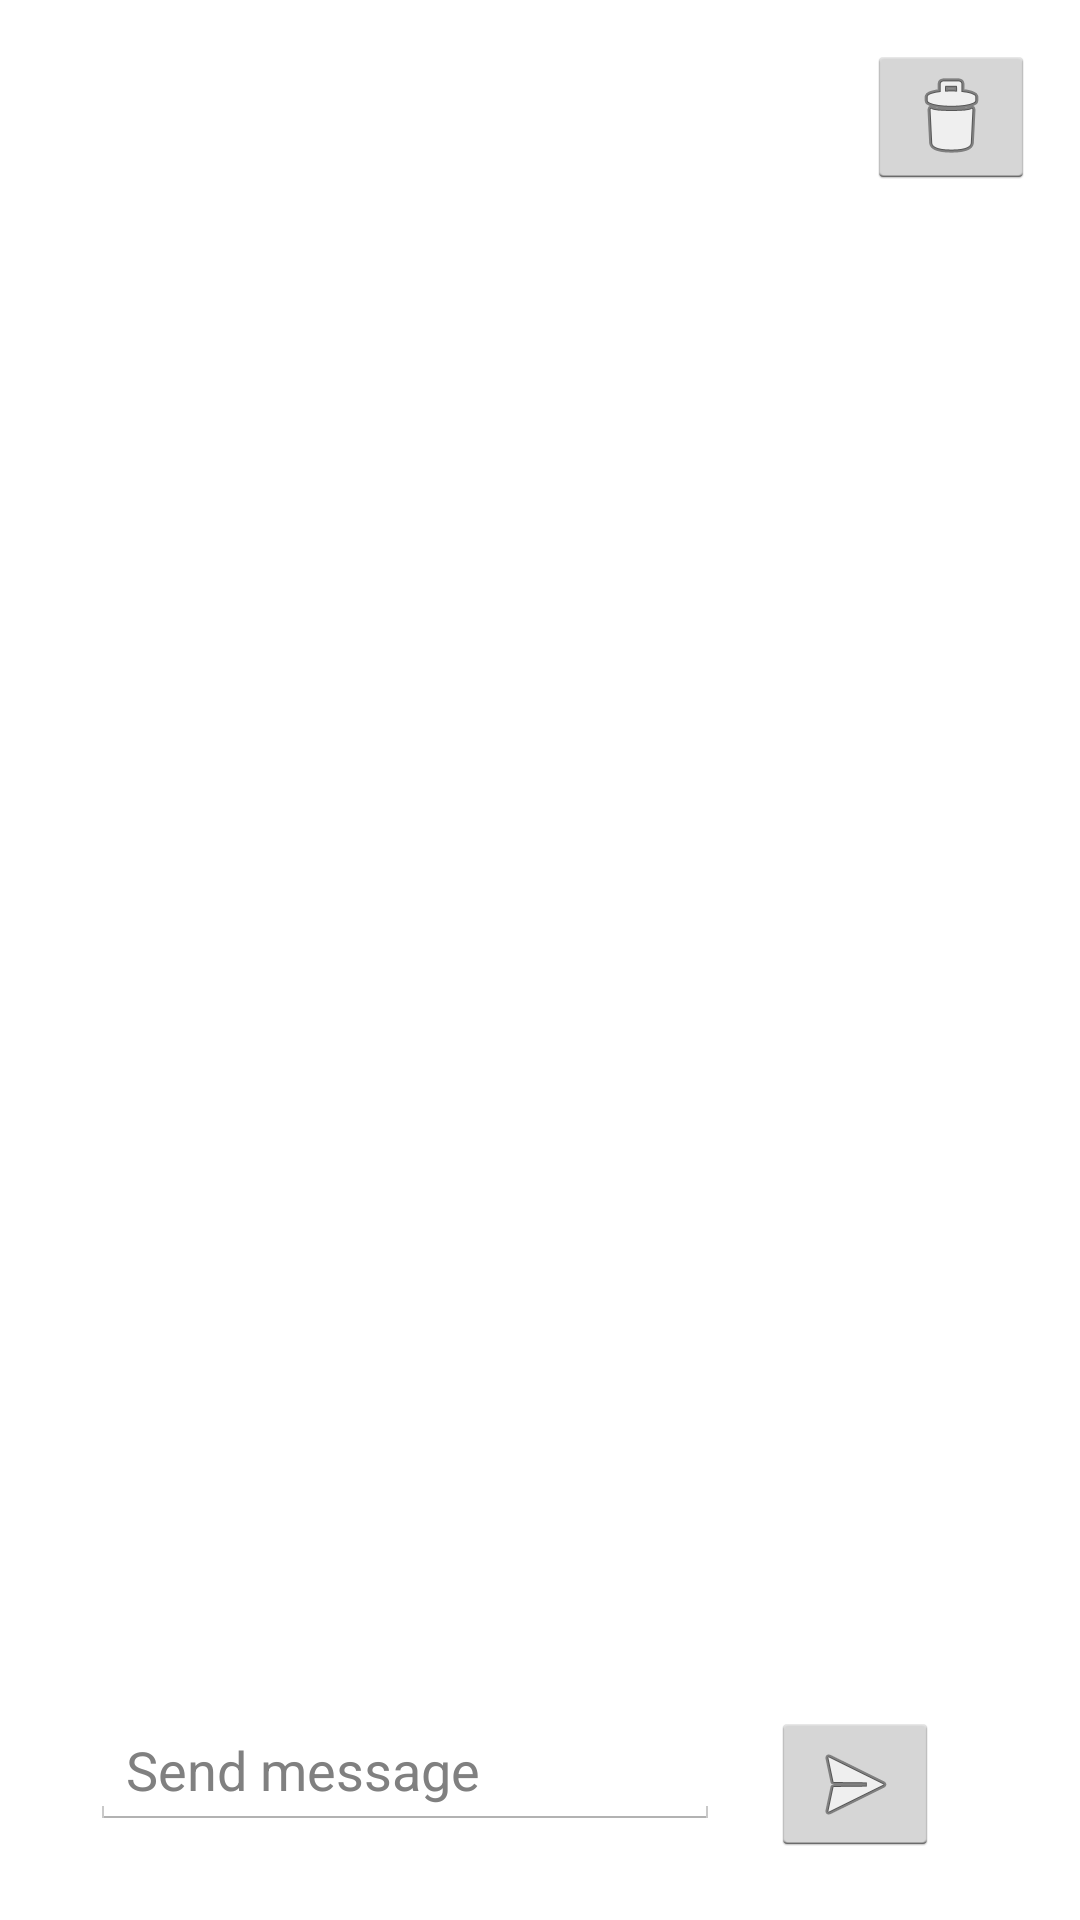

Icons on this 1080w x 1920h Android screen, each with its box as detection(x1, y1, x2, y2):
delete: detection(879, 58, 1023, 178)
